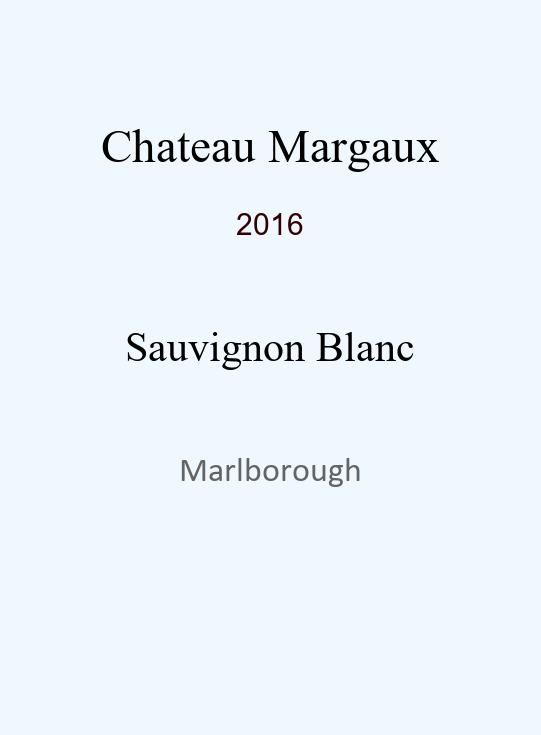brand: (101, 120, 440, 163)
region: (179, 455, 362, 484)
variety: (125, 323, 415, 361)
vintage: (236, 207, 304, 229)
